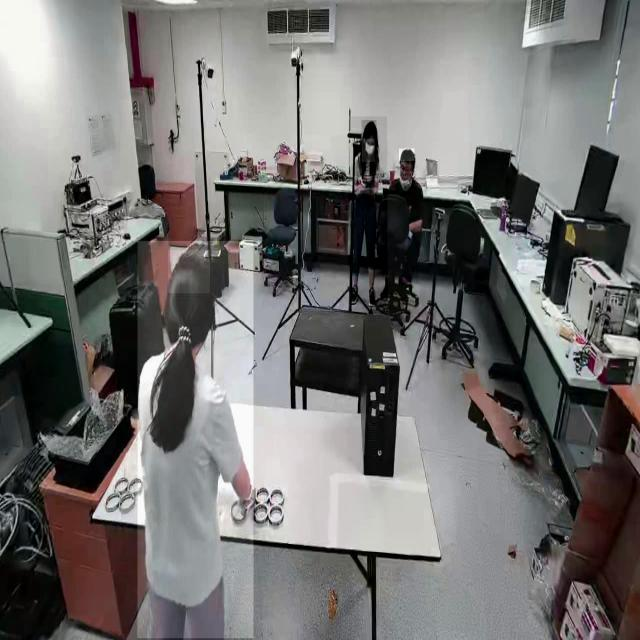face_mask: (362, 138, 374, 162)
face_nomask: (400, 163, 412, 185)
head_nohelmet: (168, 250, 210, 294), (361, 120, 377, 135), (399, 148, 415, 162)
person: (138, 241, 254, 639), (348, 116, 388, 314), (387, 142, 425, 316)
shoes: (365, 284, 379, 312), (348, 281, 362, 307)
